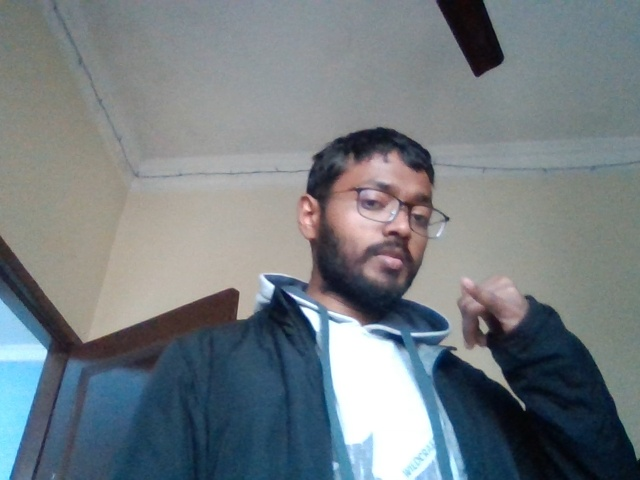telephone: (454, 264, 531, 359)
